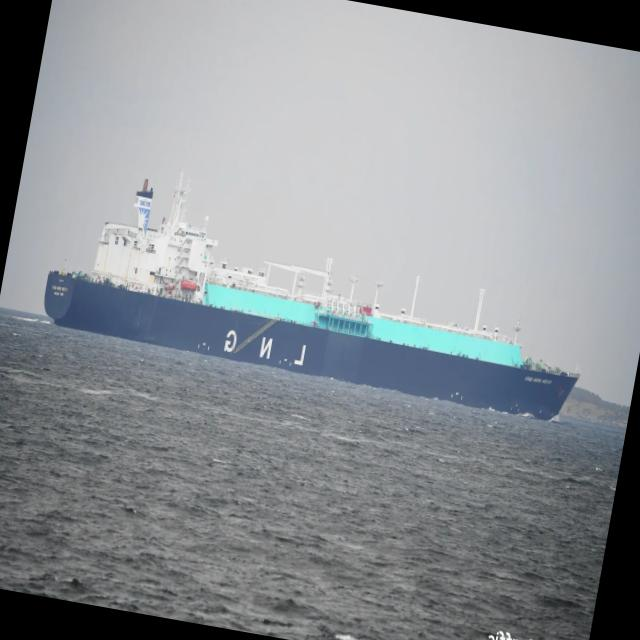Tanker: (45, 174, 579, 420)
